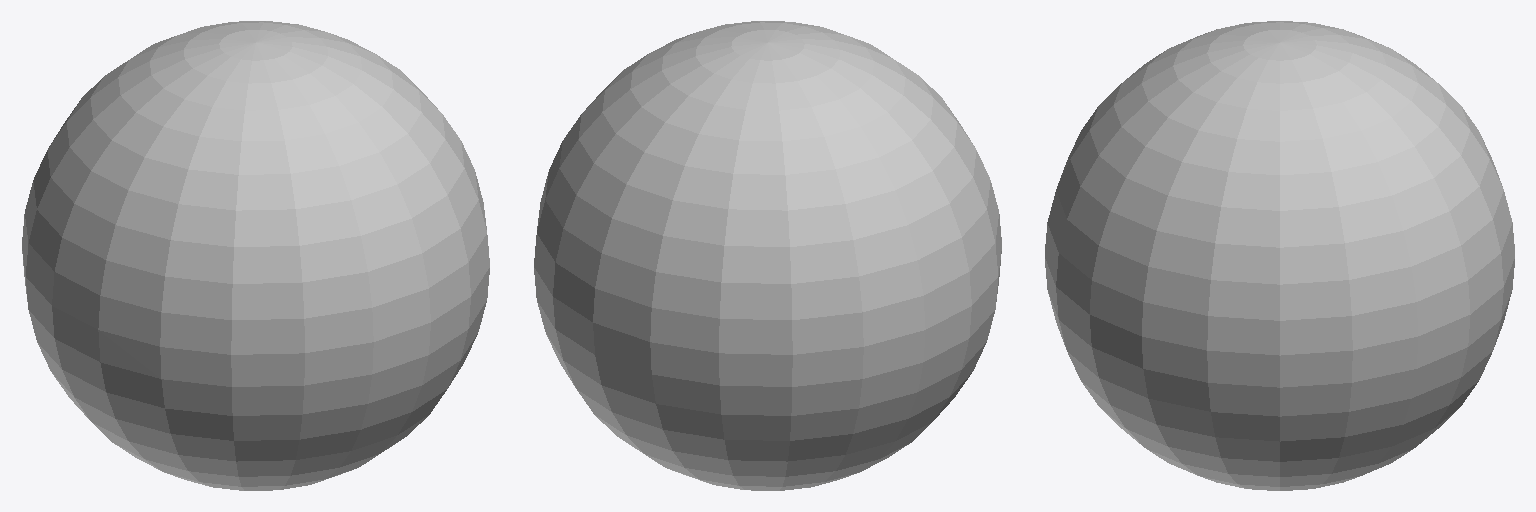
The model's file is CrossHair.obj.
The picture shows the model from 3 angles: view 1: azimuth 30°, elevation 25°; view 2: azimuth 150°, elevation 25°; view 3: azimuth 270°, elevation 25°; orthographic projection.
Visible parts, largest first — view 1: pSphere2; view 2: pSphere2; view 3: pSphere2.
Boxes of the visible parts, <box> form: pSphere2: <box>22,21,489,490</box>; pSphere2: <box>534,21,1001,490</box>; pSphere2: <box>1045,21,1514,490</box>.
Size of the model in its own units: 0.0607 by 0.0607 by 0.0607.